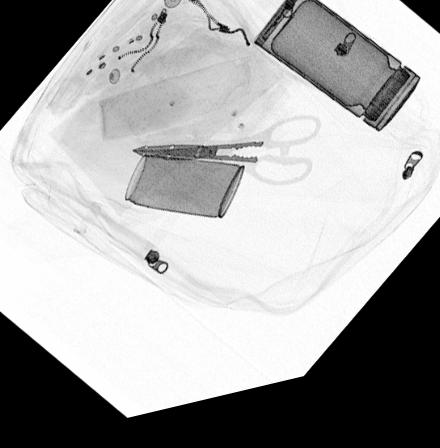Scissors: (130, 126, 323, 199)
